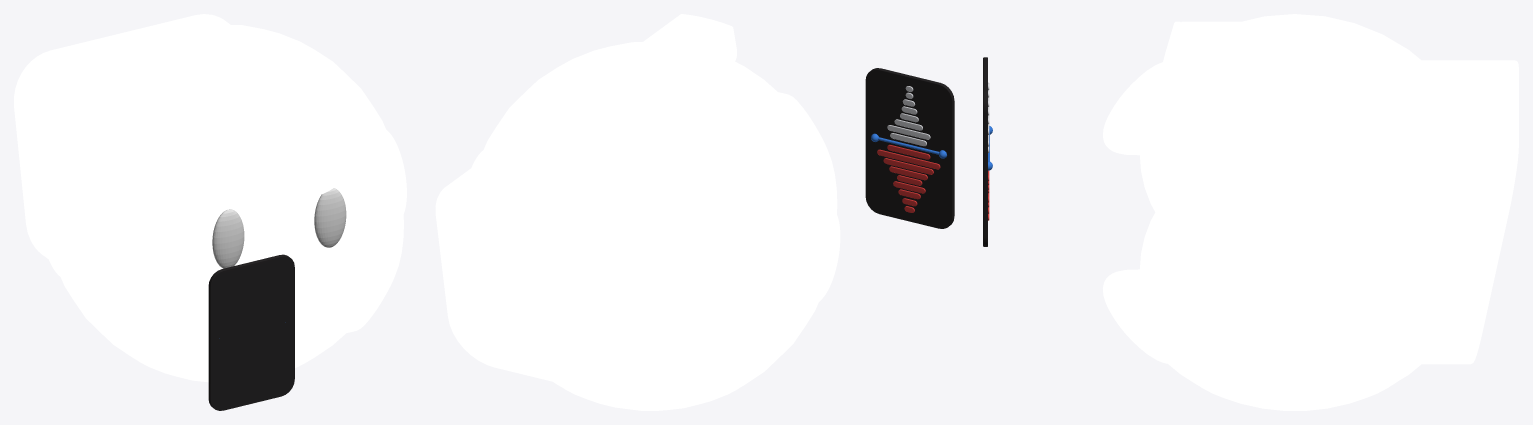
Rendered from robot1018.glb.
The picture shows the model from 3 angles, left to right: view 1: azimuth 30°, elevation 25°; view 2: azimuth 150°, elevation 25°; view 3: azimuth 270°, elevation 25°; orthographic projection. The views are drawn at different scales.
Parts seen in each view (by area): view 1: robot, voice, SphereRight, SphereLeft; view 2: robot, voice; view 3: robot, voice.
Part boxes in pixels (left/top/right/bottom): robot: left=14, top=14, right=406, bottom=382; voice: left=208, top=254, right=294, bottom=410; SphereRight: left=212, top=209, right=244, bottom=268; SphereLeft: left=314, top=188, right=346, bottom=247; robot: left=435, top=14, right=840, bottom=410; voice: left=865, top=68, right=954, bottom=228; robot: left=1103, top=14, right=1518, bottom=410; voice: left=983, top=57, right=992, bottom=246.
Bounding box in the file's own units: 0.3097 × 0.2906 × 0.4049.
Materials: 2 (1 with a texture image).
